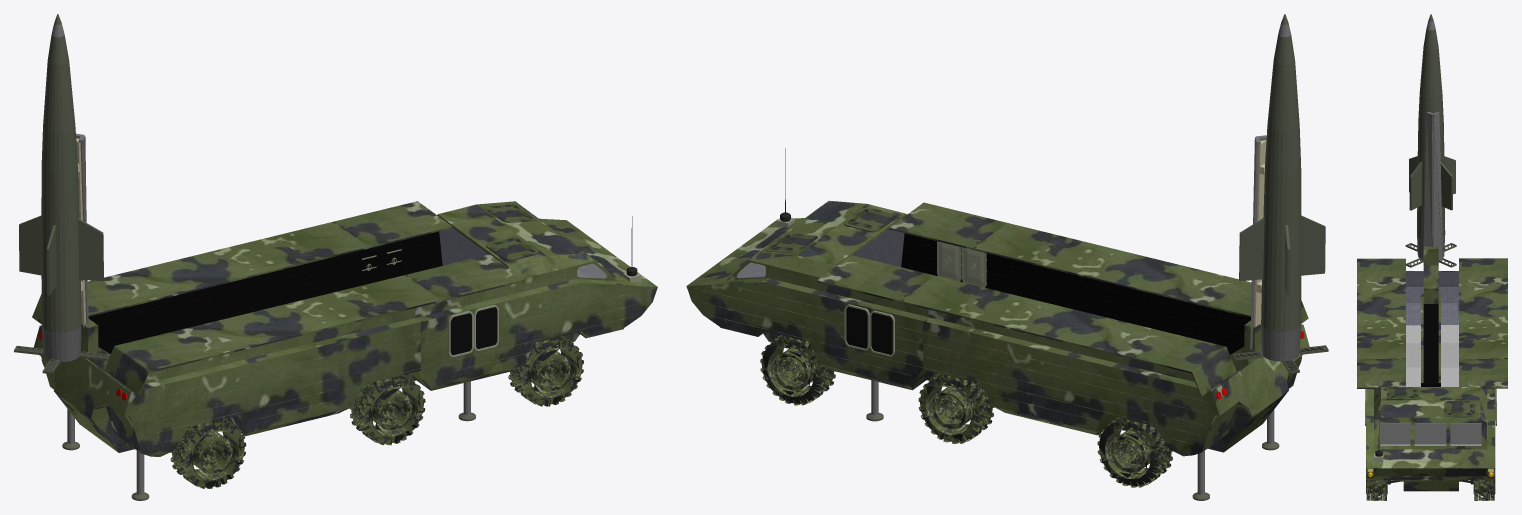
Rendered from tochka.glb.
The picture shows the model from 3 angles, left to right: view 1: azimuth 30°, elevation 25°; view 2: azimuth 150°, elevation 25°; view 3: azimuth 270°, elevation 25°; orthographic projection. The views are drawn at different scales.
Visible parts, largest first — view 1: body__17, body__10, missile__1, erector__3, w1R, w0R, w2R, body__2, body__9, w2R__1, missile__4, body; view 2: body__17, body__10, missile__1, erector__3, w0L, w2L, body, w1L, body__2, w1L__1, body__9, missile__4 (+4 smaller); view 3: body__17, body__10, missile__1, erector__4, body__6, body__9, body__8, erector__3, body__11, w2L, w2R, body (+1 smaller).
Part boxes in pixels (x1,y1,x2,y2): body__17: [32, 201, 657, 456]; body__10: [88, 231, 442, 353]; missile__1: [41, 14, 81, 332]; erector__3: [14, 215, 110, 374]; w1R: [349, 374, 425, 445]; w0R: [170, 418, 246, 488]; w2R: [508, 336, 583, 406]; body__2: [450, 307, 497, 355]; body__9: [439, 228, 606, 278]; w2R__1: [510, 337, 582, 406]; missile__4: [41, 325, 81, 361]; body: [362, 249, 641, 357]; body__17: [686, 200, 1309, 456]; body__10: [901, 233, 1250, 354]; missile__1: [1261, 14, 1301, 331]; erector__3: [1232, 215, 1328, 373]; w0L: [1097, 417, 1172, 487]; w2L: [760, 335, 835, 405]; body: [776, 217, 986, 356]; w1L: [918, 373, 994, 442]; body__2: [846, 306, 892, 354]; w1L__1: [918, 374, 993, 443]; body__9: [737, 229, 904, 277]; missile__4: [1261, 323, 1300, 361]; body__17: [1357, 246, 1507, 491]; body__10: [1380, 304, 1481, 444]; missile__1: [1417, 14, 1445, 239]; erector__4: [1423, 112, 1442, 260]; body__6: [1380, 423, 1481, 445]; body__9: [1380, 272, 1481, 445]; body__8: [1406, 325, 1458, 386]; erector__3: [1405, 156, 1456, 267]; body__11: [1421, 293, 1440, 382]; w2L: [1473, 478, 1495, 500]; w2R: [1366, 478, 1387, 500]; body: [1365, 388, 1496, 462].
Size of the model in its own units: 10.52 by 8.1 by 3.34.
24 materials, 6 textured.
